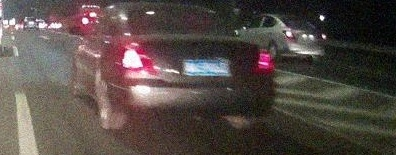L_light: (119, 41, 160, 76), (283, 30, 296, 40)
R_light: (252, 47, 274, 72), (318, 32, 326, 40)
T_light: (173, 7, 191, 11), (293, 16, 301, 18)
night-left: (113, 2, 275, 129)
night-no: (277, 14, 327, 64)
